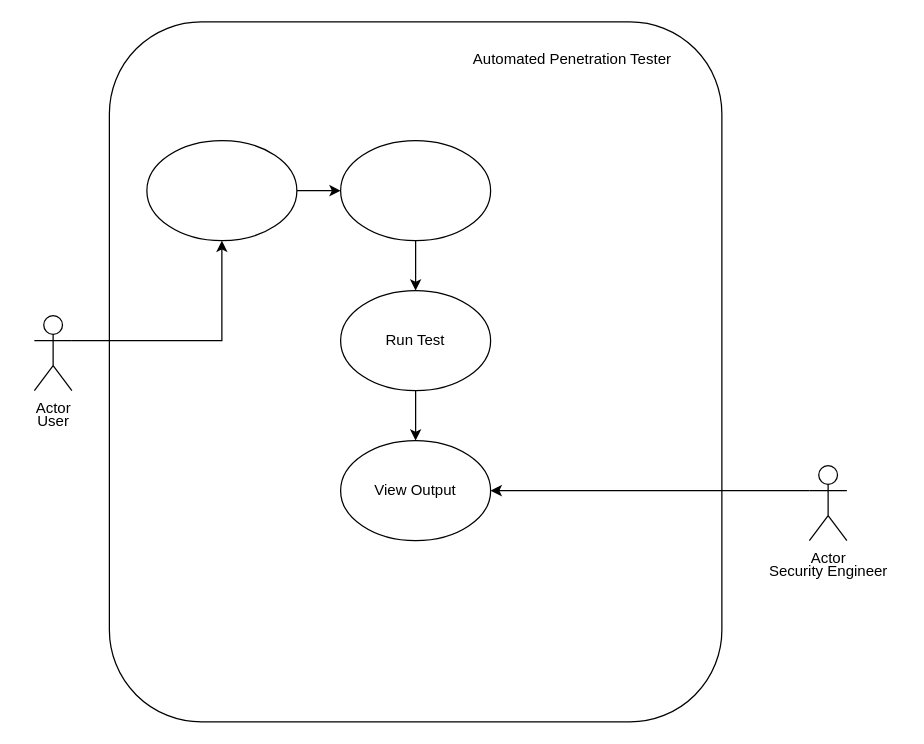
The diagram is 924 pixels wide and 744 high, and some of its shapes have lost their labels. Here are the shapes that lost their labels. From the top down, the centre of each, then its label:
point (221, 190): Select File
point (415, 190): Select Desired Tests
